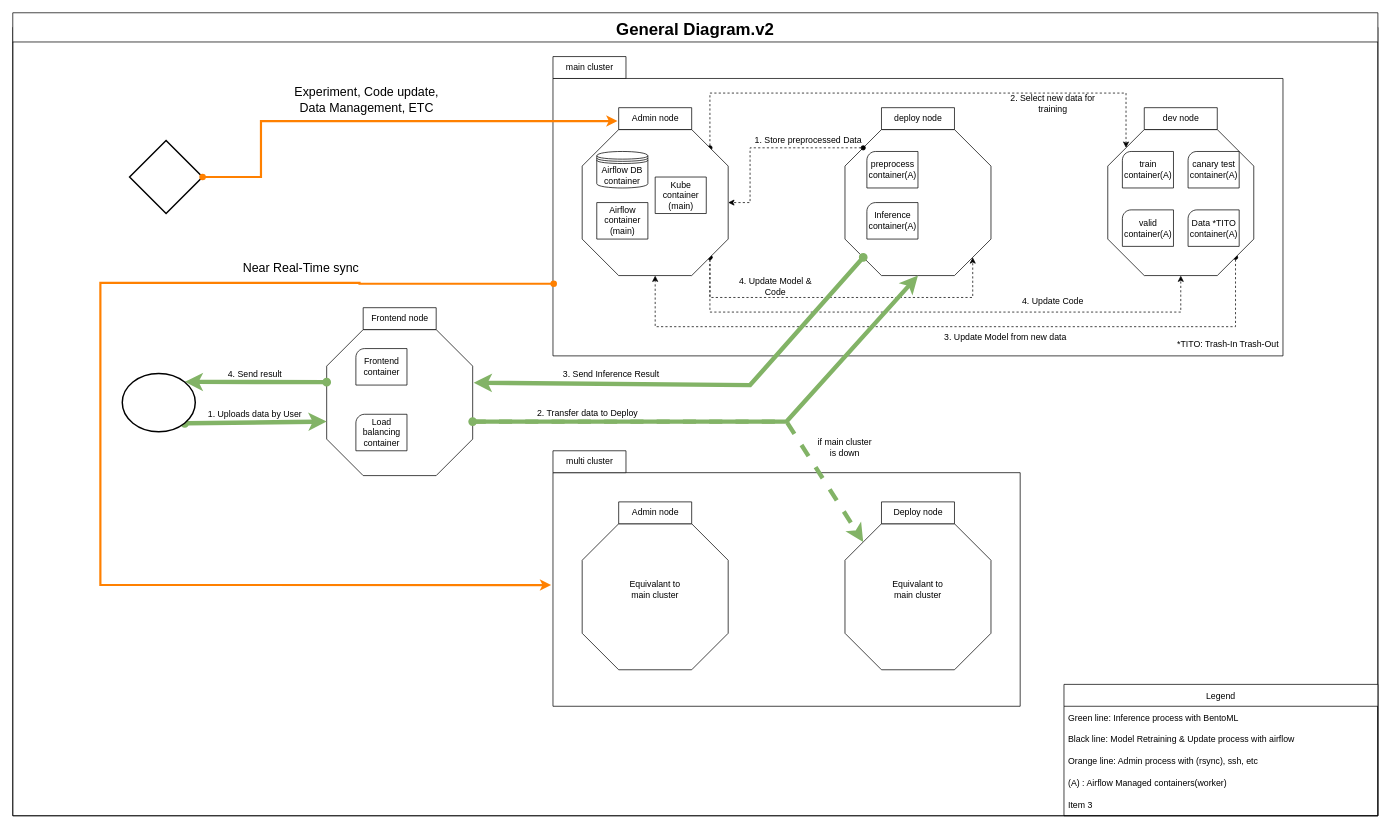
Image size: 1391x829. Some labels were removed from this diagram. Here are the shapes that lost their labels. From the top down, the centre of each, then its label:
At (165,176): "Admin".
At (158,402): "End User".
